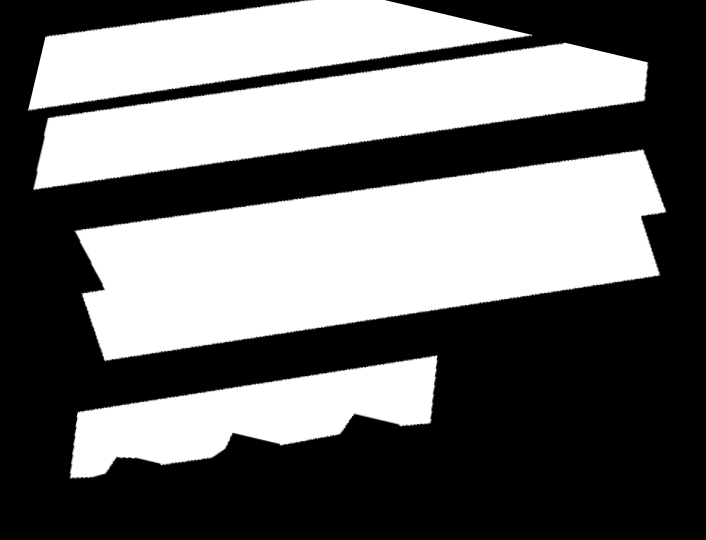parkingspot: (75, 149, 666, 361), (33, 43, 648, 190), (28, 0, 532, 111), (70, 355, 437, 478)
